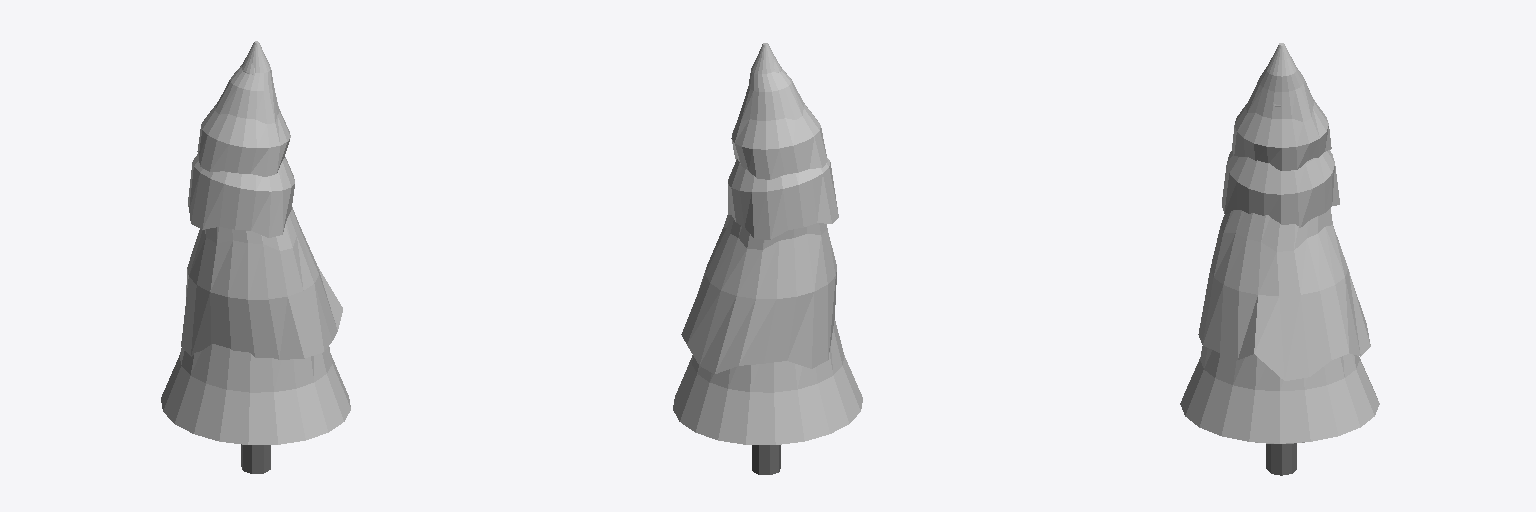
File: Style_Tree01.obj
The picture shows the model from 3 angles: view 1: azimuth 30°, elevation 25°; view 2: azimuth 150°, elevation 25°; view 3: azimuth 270°, elevation 25°; orthographic projection.
Visible parts, largest first — view 1: Style_Tree01; view 2: Style_Tree01; view 3: Style_Tree01.
Part boxes in pixels (left/top/right/bottom): Style_Tree01: left=161, top=41, right=350, bottom=473; Style_Tree01: left=673, top=43, right=862, bottom=474; Style_Tree01: left=1180, top=43, right=1379, bottom=475.
Bounding box in the file's own units: 3.78 × 9.43 × 4.